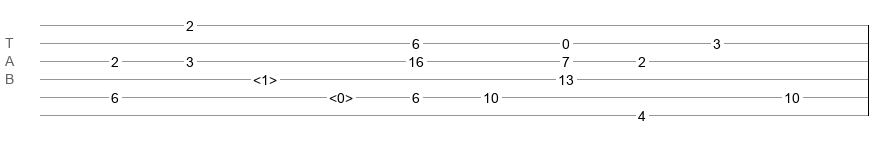0: (562, 36, 570, 46)
10: (483, 90, 499, 100), (784, 90, 800, 100)
13: (558, 72, 574, 82)
16: (408, 54, 424, 64)
2: (111, 54, 119, 64), (186, 18, 194, 28), (638, 54, 646, 64)
3: (186, 54, 194, 64), (713, 36, 721, 46)
4: (638, 108, 646, 118)
6: (111, 90, 119, 100), (412, 36, 420, 46), (412, 90, 420, 100)
7: (562, 54, 570, 64)
harmonic: (253, 72, 277, 82), (329, 90, 353, 100)
